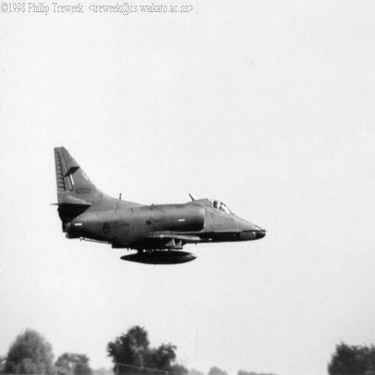airplane: (36, 132, 273, 268)
